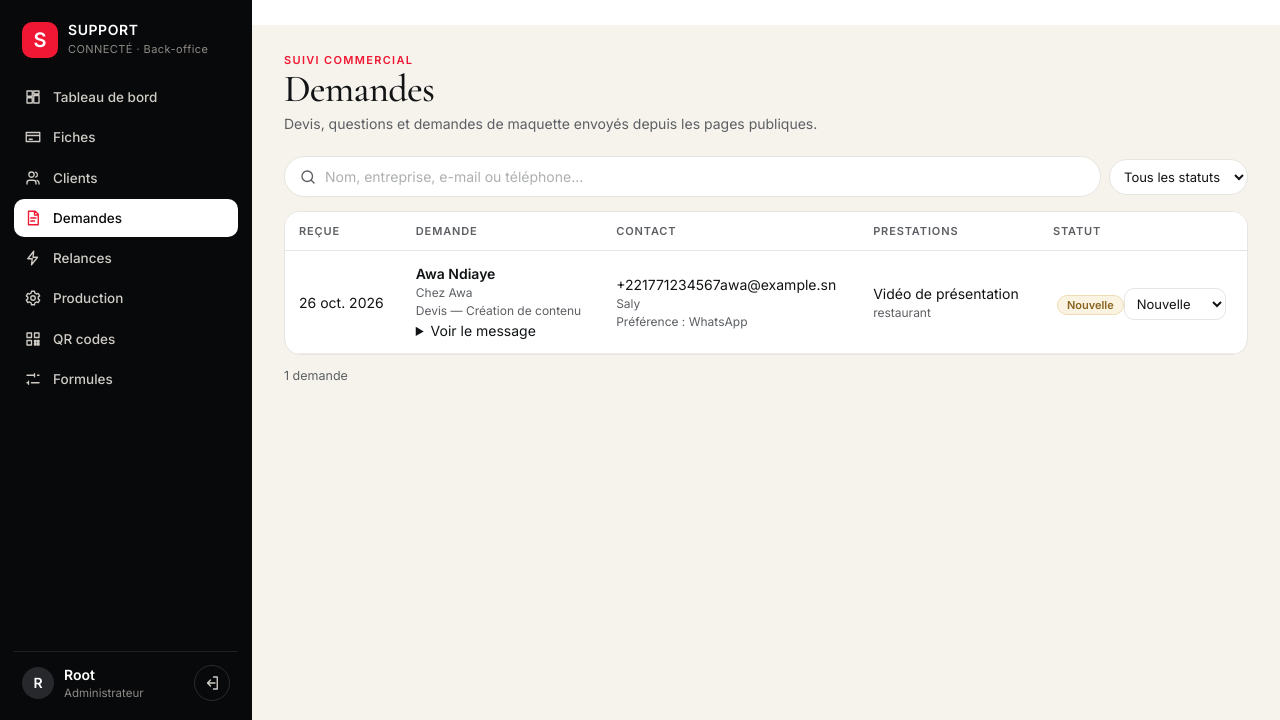
it: pages du back-office › l’administration affiche les demandes de contact et leurs coordonnées
The width and height of the screenshot is (1280, 720).
Check: the dropdown named "Statut de la demande 42" is shown, box left=1124, top=288, right=1226, bottom=320
Click the heading "Voir le message" at x=483, y=331, box left=431, top=322, right=536, bottom=339
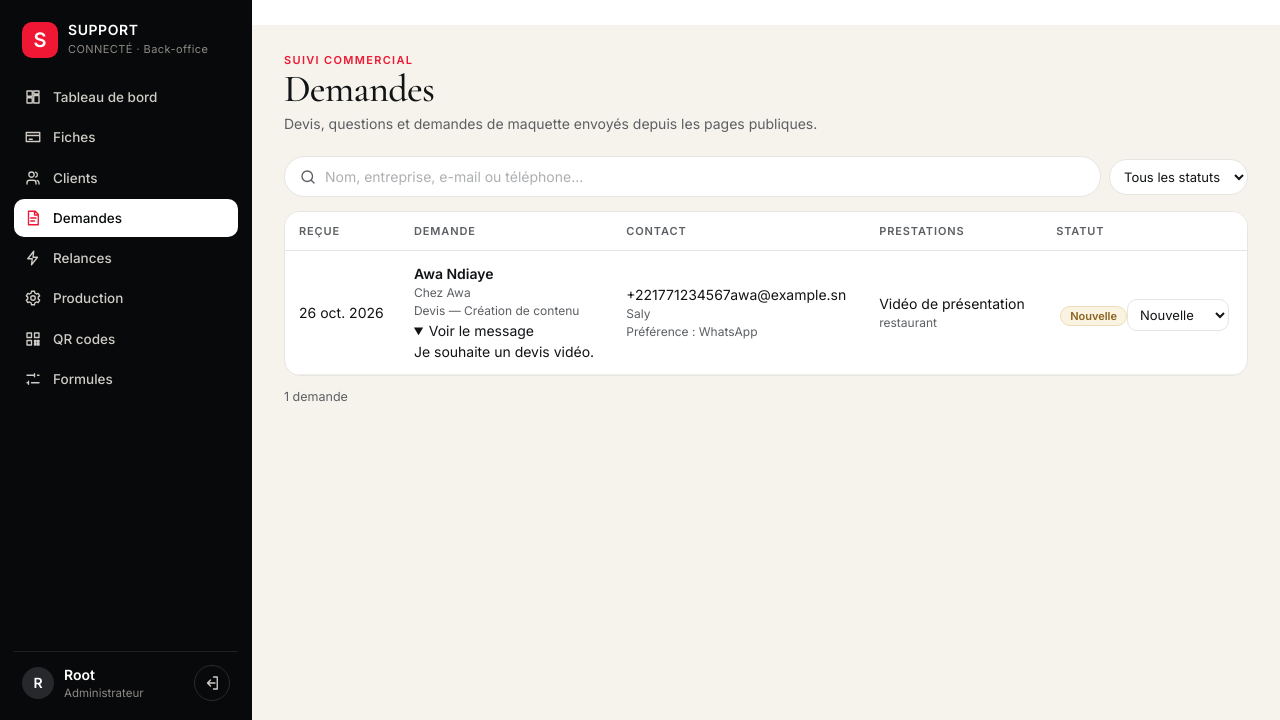
Check: the text "Je souhaite un devis vidéo." is shown, box left=414, top=341, right=598, bottom=362
